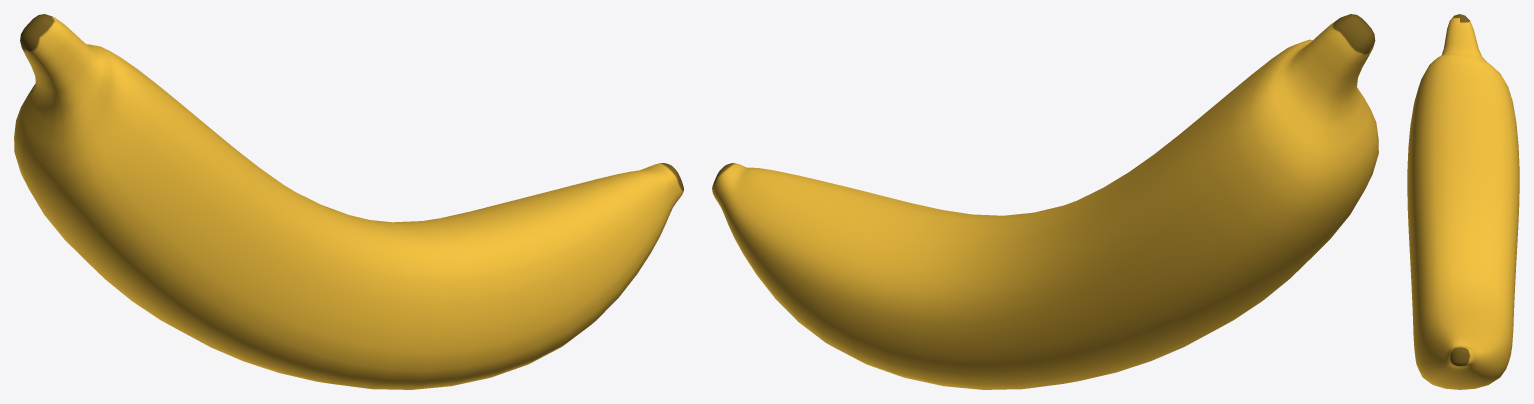
Rendered from Banana.fbx.
3 renders of one model, left to right at view 1: azimuth 30°, elevation 25°; view 2: azimuth 150°, elevation 25°; view 3: azimuth 270°, elevation 25°, orthographic. The views are drawn at different scales.
Visible parts, largest first — view 1: Banana; view 2: Banana; view 3: Banana.
Boxes of the visible parts, x1,y1,x2,y2 form: Banana: (14,14,683,389); Banana: (712,14,1378,389); Banana: (1407,14,1519,389).
Bounding box in the file's own units: 0.9904 × 0.6505 × 0.2662.
1 material, 1 textured.
